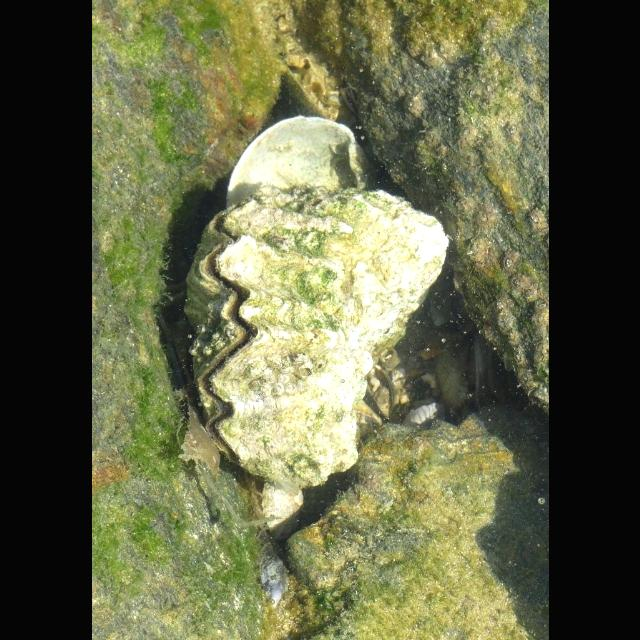Oyster-Open: (180, 185, 448, 489)
